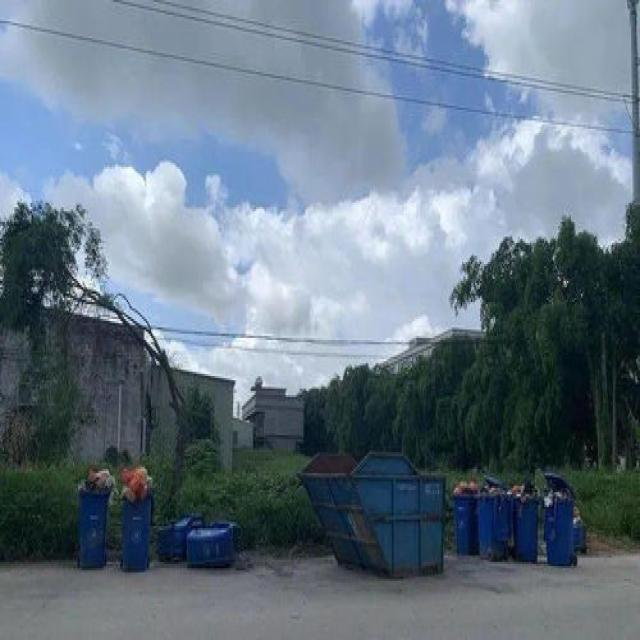overflow: (77, 465, 109, 570), (119, 463, 150, 570), (543, 471, 573, 566), (478, 475, 510, 562), (512, 479, 538, 564), (452, 475, 475, 558)
